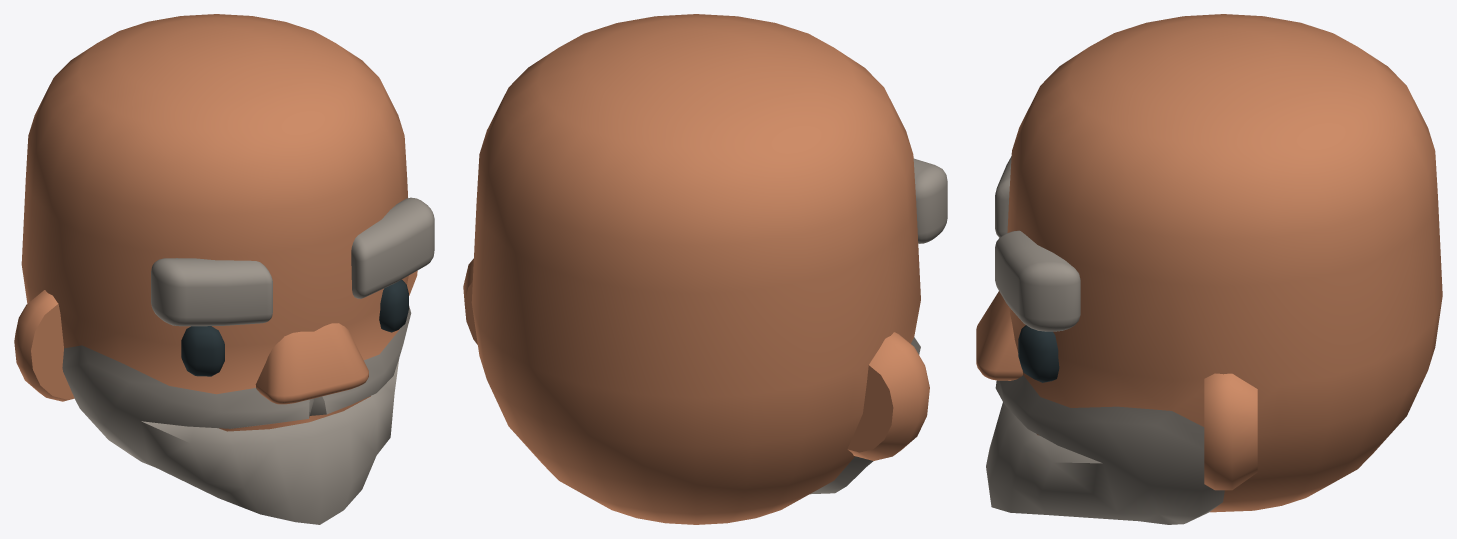
Rendered from barbarianHeadB.dae.
The picture shows the model from 3 angles, left to right: view 1: azimuth 30°, elevation 25°; view 2: azimuth 150°, elevation 25°; view 3: azimuth 270°, elevation 25°; orthographic projection. The views are drawn at different scales.
Parts seen in each view (by area): view 1: barbarianHeadB; view 2: barbarianHeadB; view 3: barbarianHeadB.
Part boxes in pixels (bbox=[...]): barbarianHeadB: bbox=[14, 14, 434, 524]; barbarianHeadB: bbox=[463, 14, 947, 524]; barbarianHeadB: bbox=[976, 14, 1442, 524].
Size of the model in its own units: 1.18 by 1.06 by 1.14.
